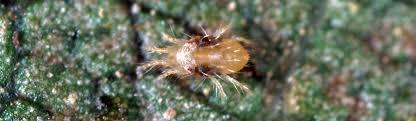Insects: (134, 16, 263, 103)
